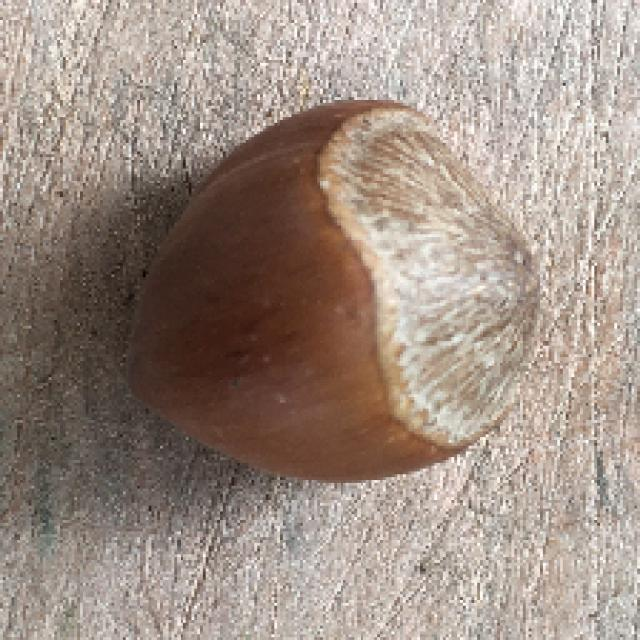damagedHazelnut: (118, 88, 563, 494)
